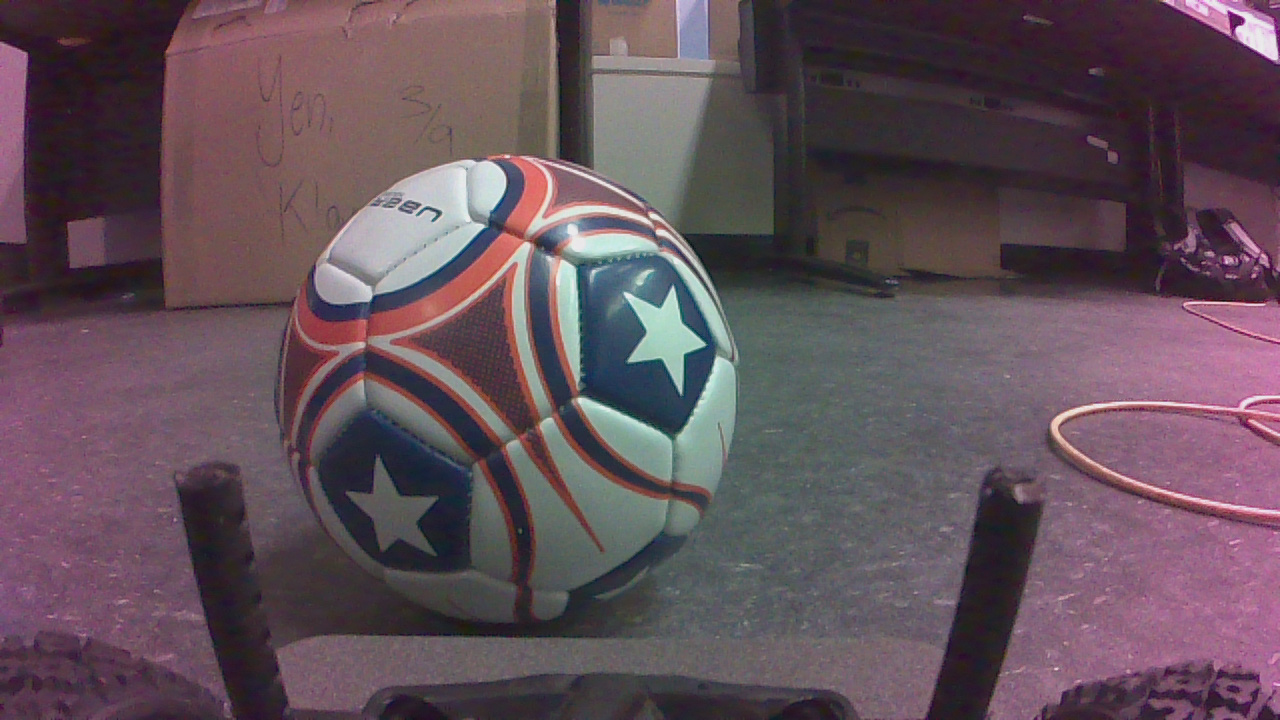ball: (281, 155, 746, 631)
